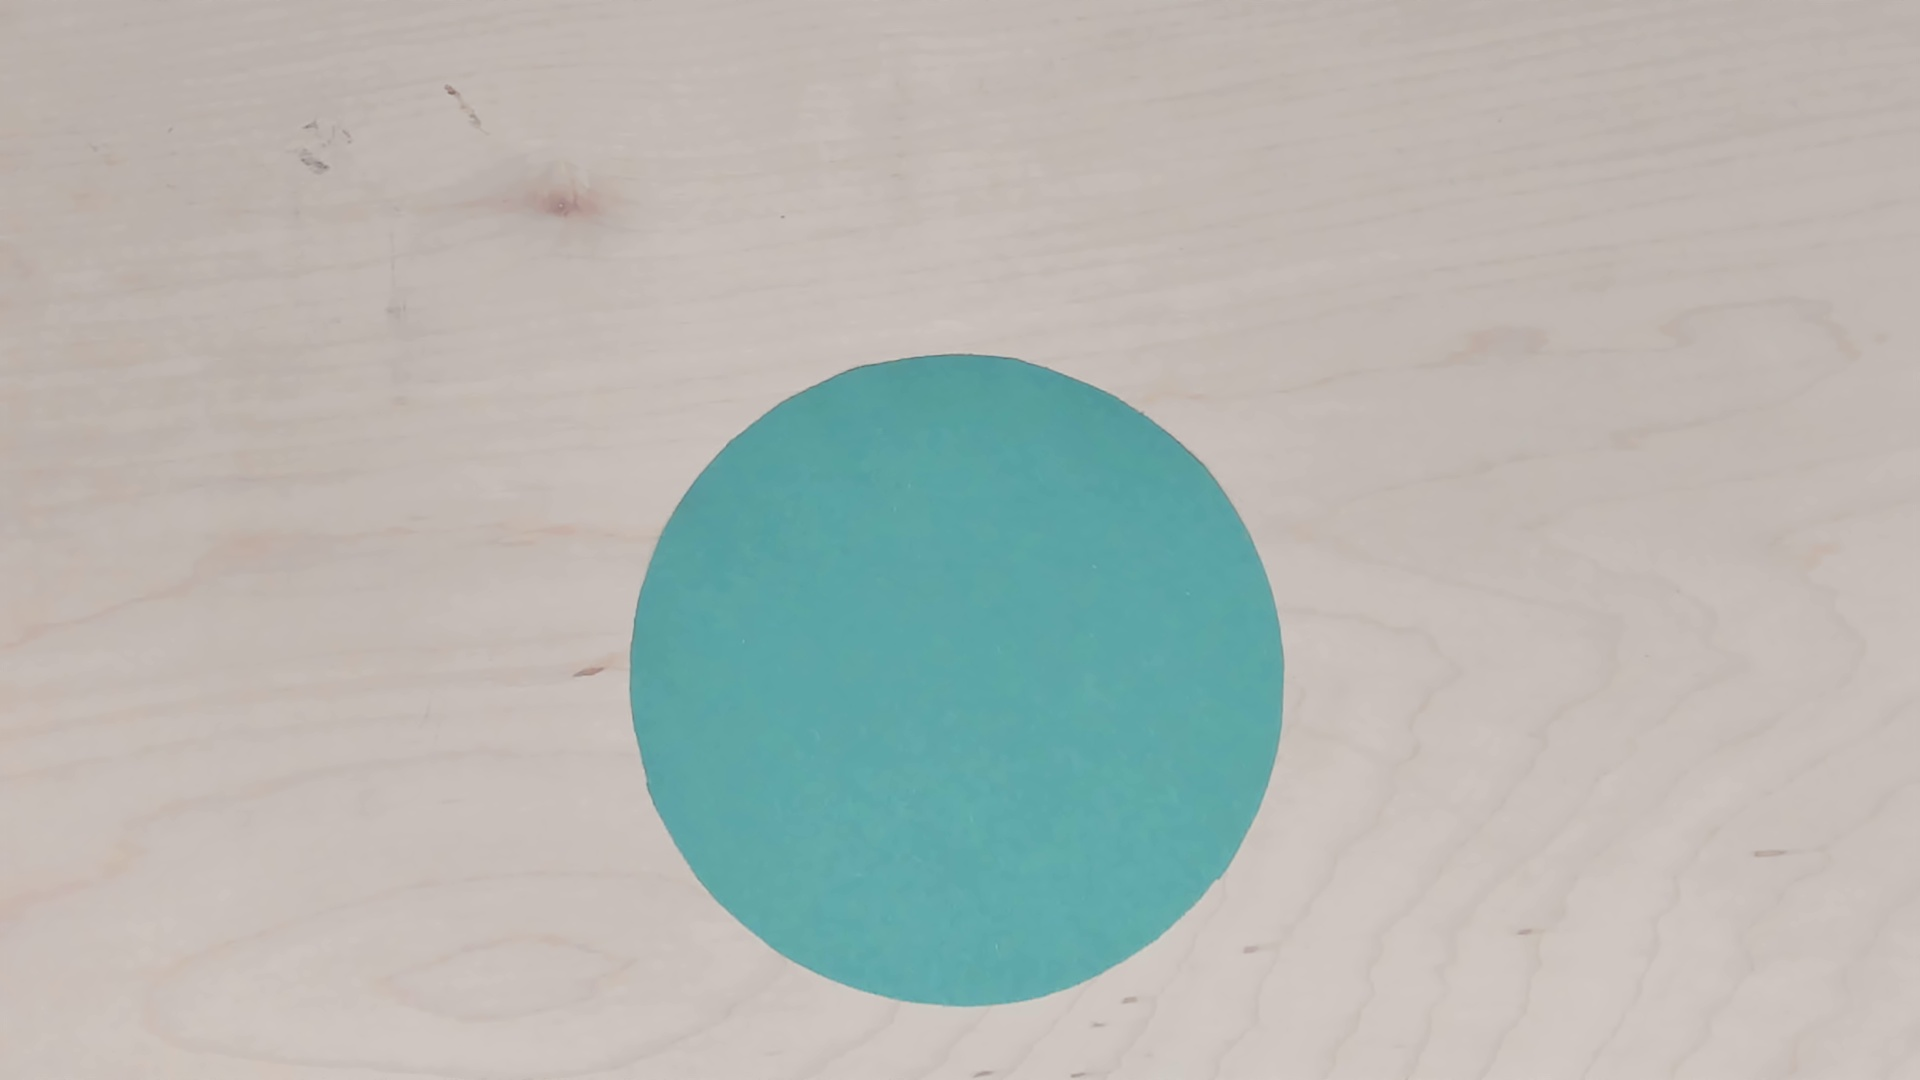GC: (629, 353, 1284, 1004)
